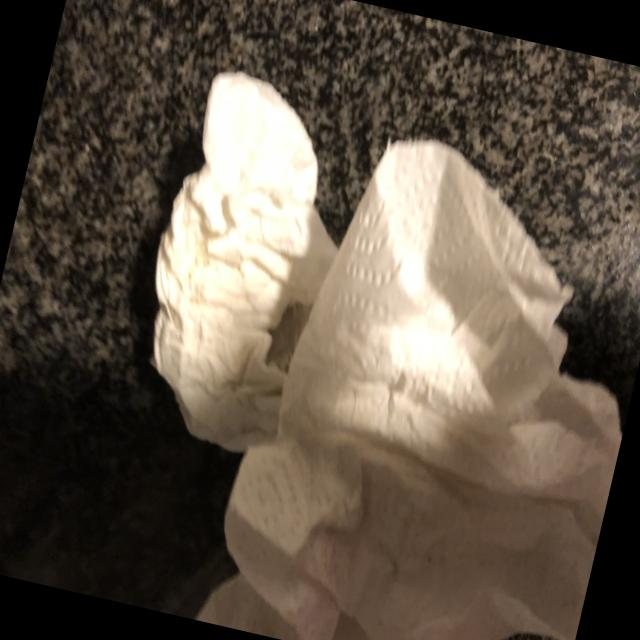organic waste: (191, 103, 640, 640), (109, 59, 372, 467)
